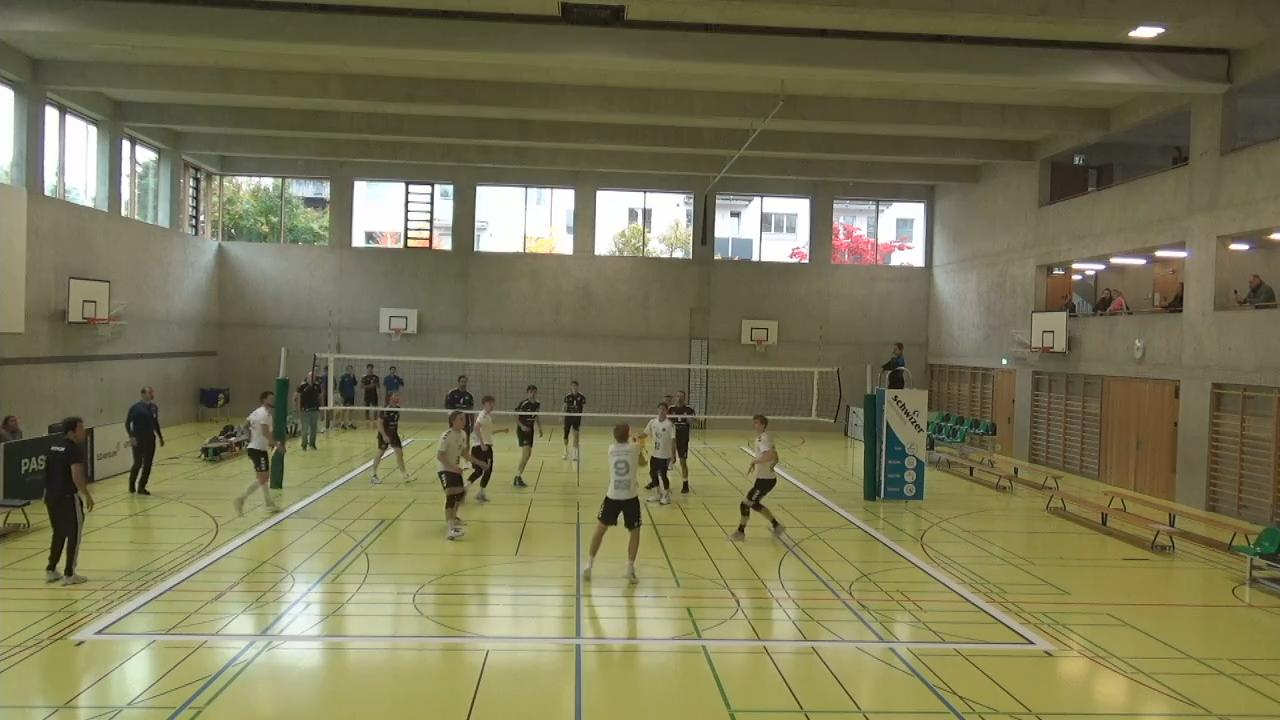ricezione: (580, 410, 655, 582)
